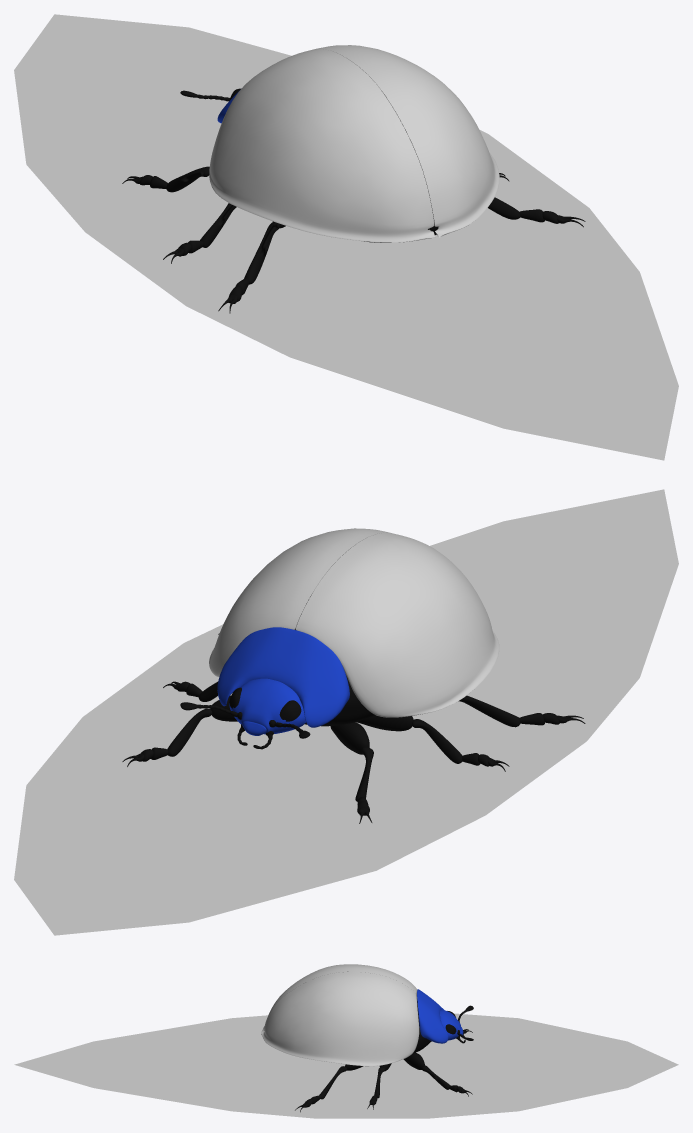
Rendered from ladybug.obj.
3 views of the same model, one above another, from view 1: azimuth 30°, elevation 25°; view 2: azimuth 150°, elevation 25°; view 3: azimuth 270°, elevation 25° (orthographic). The views are drawn at different scales.
Parts seen in each view (by area): view 1: Plane, L_Shell, R_Shell, C_HindLeg; view 2: Plane, L_Shell, R_Shell, C_Neck, C_Head, C_FrontThighs, C_FrontLeg, C_MiddleLeg, Ladybird, C_HindLeg; view 3: Plane, R_Shell, L_Shell, C_Neck, C_Head.
Part boxes in pixels (bbox=[...]): Plane: bbox=[14, 14, 678, 460]; L_Shell: bbox=[209, 49, 442, 242]; R_Shell: bbox=[313, 45, 499, 236]; C_HindLeg: bbox=[244, 197, 520, 284]; Plane: bbox=[14, 489, 678, 935]; L_Shell: bbox=[296, 532, 499, 717]; R_Shell: bbox=[209, 528, 390, 676]; C_Neck: bbox=[217, 627, 349, 727]; C_Head: bbox=[229, 678, 305, 735]; C_FrontThighs: bbox=[210, 695, 369, 754]; C_FrontLeg: bbox=[167, 708, 373, 801]; C_MiddleLeg: bbox=[198, 681, 462, 763]; Ladybird: bbox=[294, 595, 375, 726]; C_HindLeg: bbox=[458, 695, 520, 727]; Plane: bbox=[14, 1013, 678, 1118]; R_Shell: bbox=[261, 972, 419, 1066]; L_Shell: bbox=[261, 964, 417, 1034]; C_Neck: bbox=[417, 989, 448, 1043]; C_Head: bbox=[440, 1010, 463, 1040].
Size of the model in its own units: 46.05 by 18.61 by 121.
